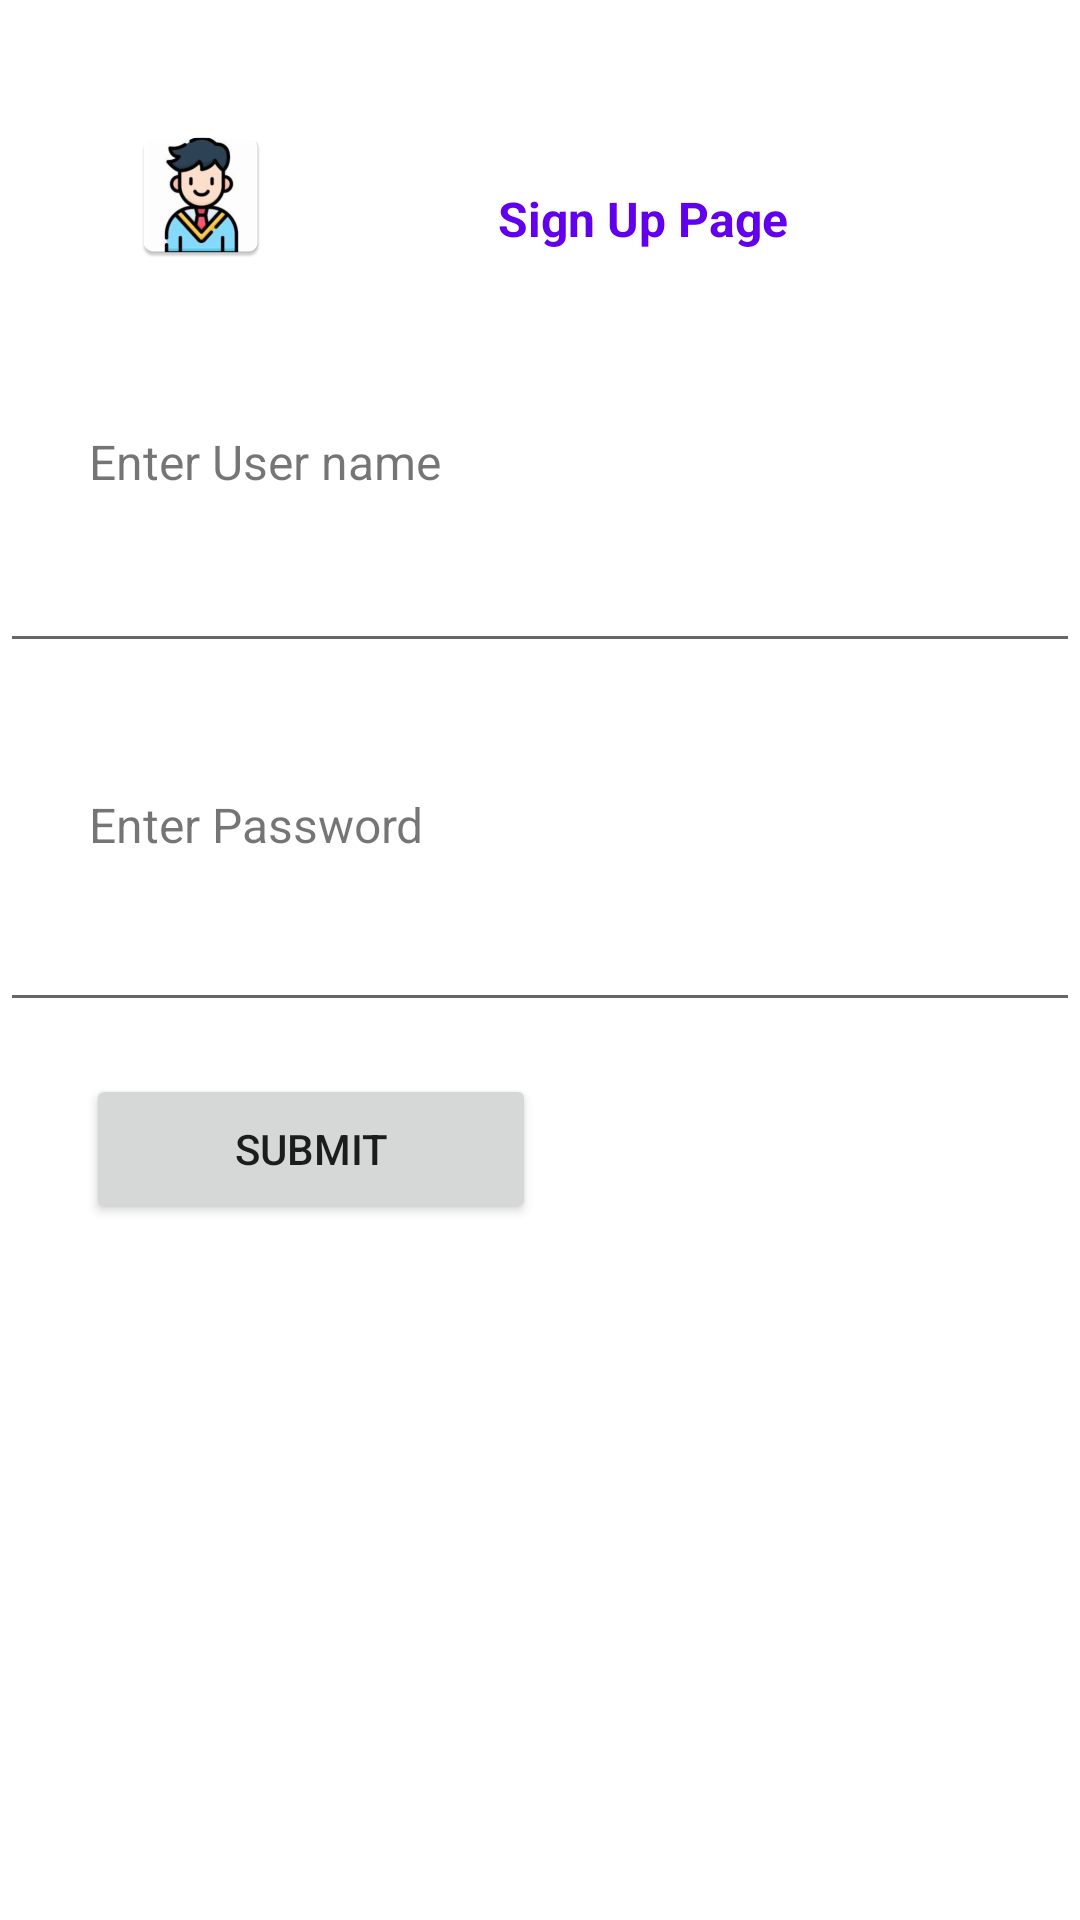

Where icons sit on this 1080px x 1920px app screen, as (x1, y1, x2, y2):
user: (144, 137, 259, 256)
